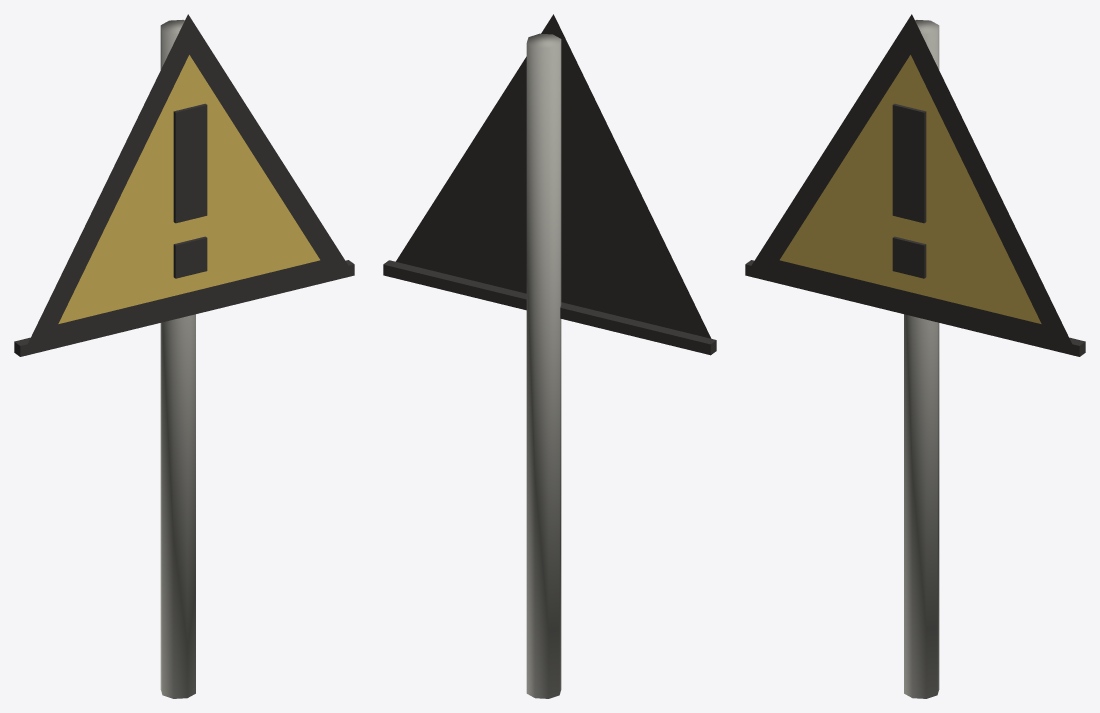
The model's file is danger.glb.
3 renders of one model, left to right at view 1: azimuth 30°, elevation 25°; view 2: azimuth 150°, elevation 25°; view 3: azimuth 330°, elevation 25°, orthographic. The views are drawn at different scales.
Parts seen in each view (by area): view 1: face, rim, post, bang, back, dot; view 2: rim, post, back; view 3: face, rim, post, bang, back, dot.
Part boxes in pixels (x1,y1,x2,y2): face: (58, 55, 319, 323); rim: (24, 14, 351, 350); post: (160, 20, 195, 698); bang: (173, 103, 207, 223); back: (14, 260, 354, 356); dot: (173, 236, 207, 278); rim: (396, 14, 711, 338); post: (526, 33, 561, 698); back: (383, 260, 716, 355); face: (780, 55, 1041, 323); rim: (748, 14, 1075, 350); post: (904, 20, 939, 698); bang: (892, 103, 926, 223); back: (745, 260, 1085, 356); dot: (892, 236, 926, 278).
Size of the model in its own units: 0.6324 by 1.24 by 0.073.
